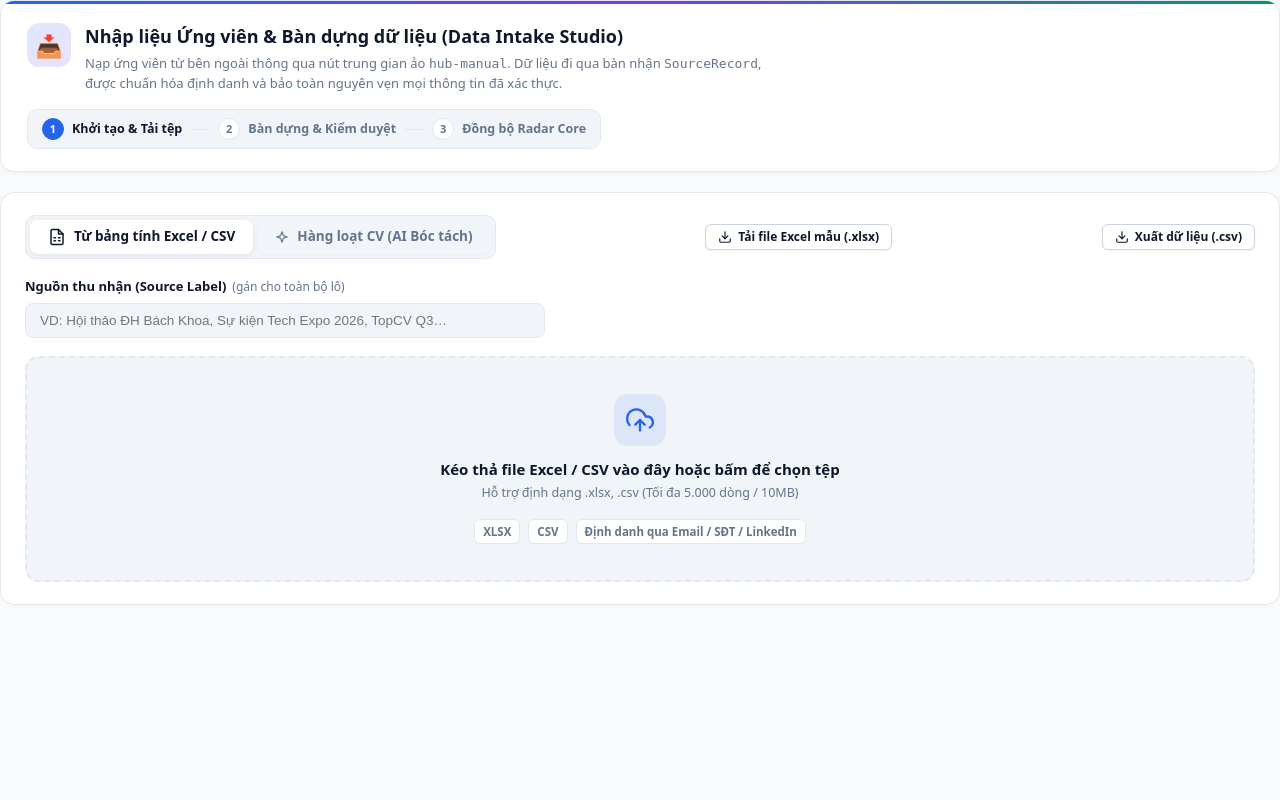
Test case: DataIntake Component (Tab Nhập liệu) › cho phép chuyển đổi giữa chế độ Excel và Hàng loạt CV
Click the button "Hàng loạt CV (AI Bóc tách)".
click(374, 237)  # box [257, 220, 490, 254]
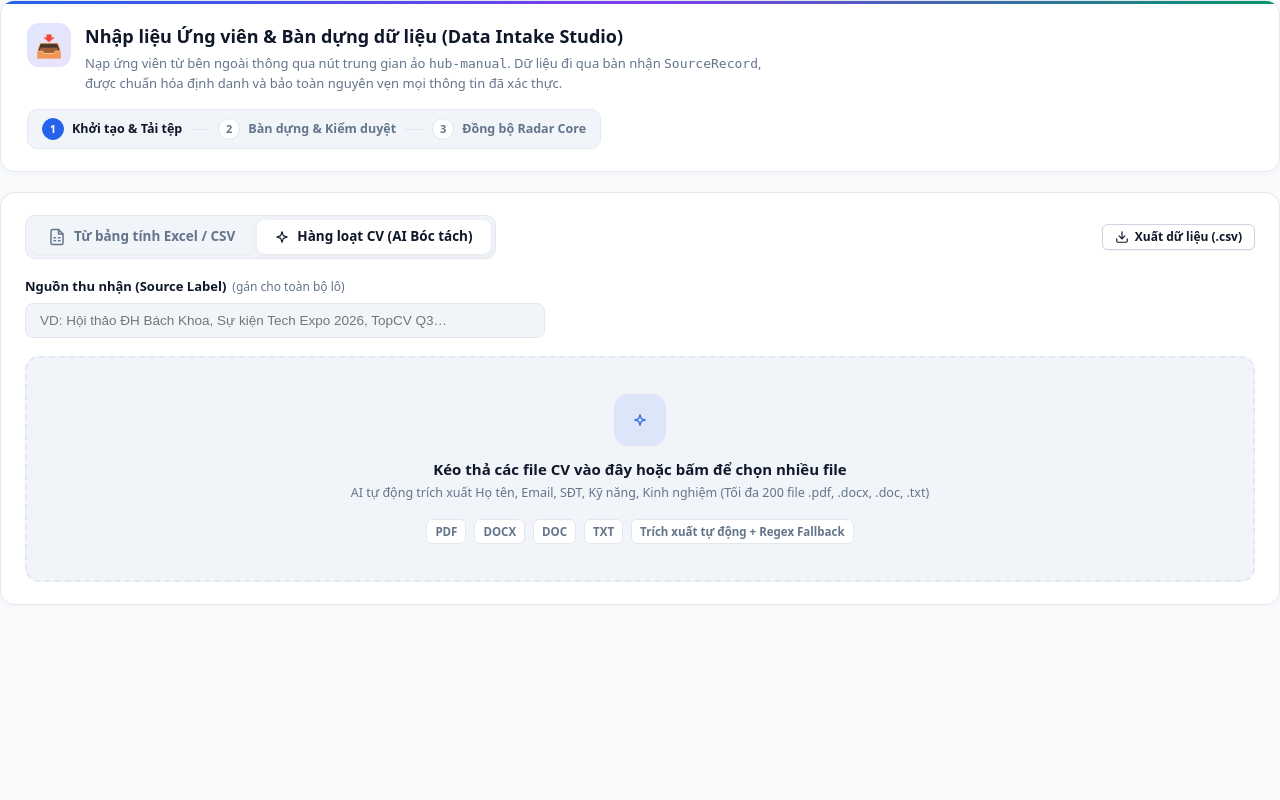
Check: the text "AI tự động trích xuất Họ tên, Email" is shown, box [351, 484, 929, 501]
